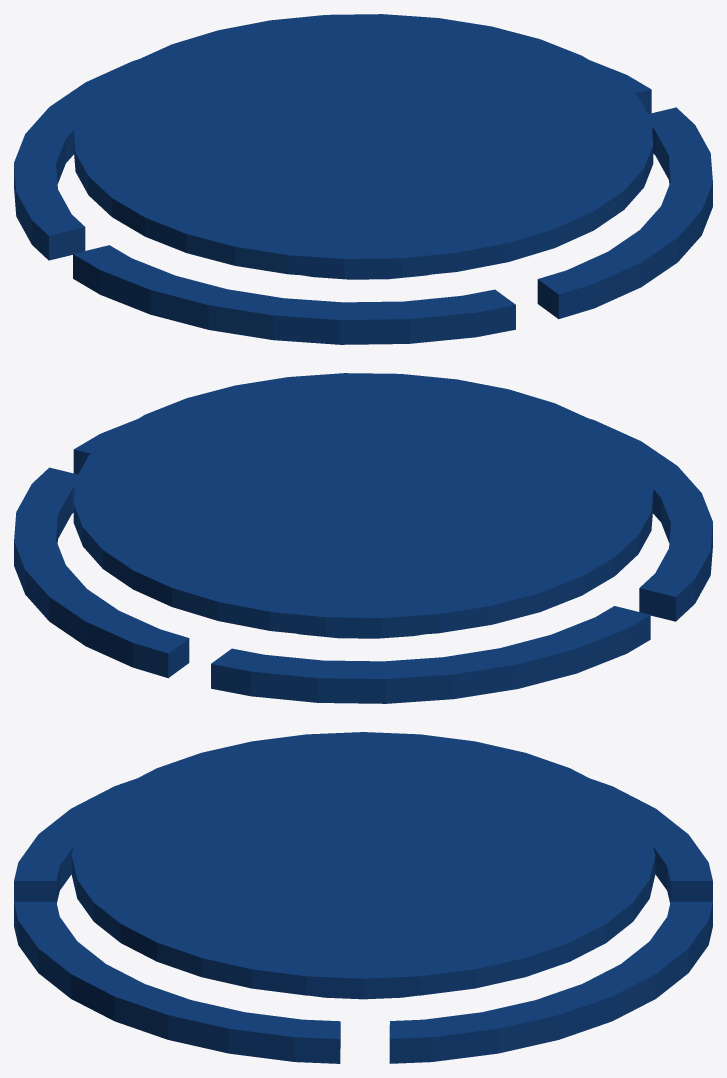
The model's file is cafeteria-table.fbx.
3 renders of one model, top to bottom at view 1: azimuth 30°, elevation 25°; view 2: azimuth 150°, elevation 25°; view 3: azimuth 270°, elevation 25°, orthographic.
Parts seen in each view (by area): view 1: Table 2; view 2: Table 2; view 3: Table 2.
Boxes of the visible parts, x1,y1,x2,y2 form: Table 2: [14, 14, 712, 344]; Table 2: [14, 373, 712, 703]; Table 2: [14, 732, 712, 1063].
Size of the model in its own units: 357 by 34.43 by 357.
